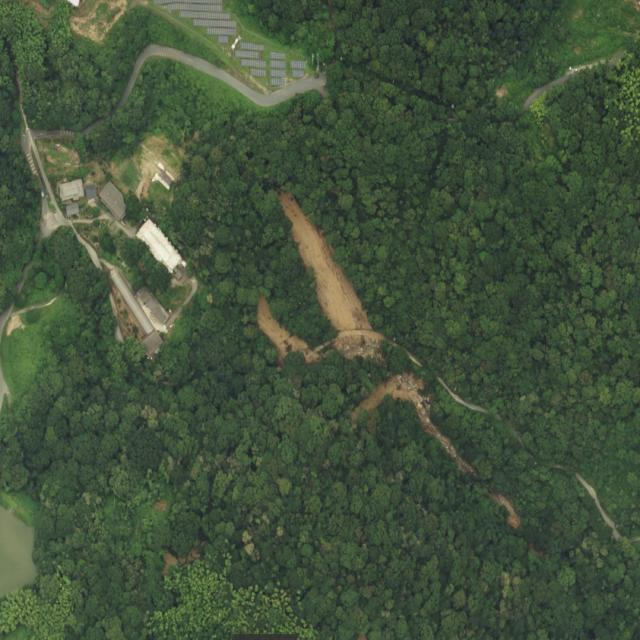landslide: (279, 190, 384, 356), (258, 294, 320, 363)
